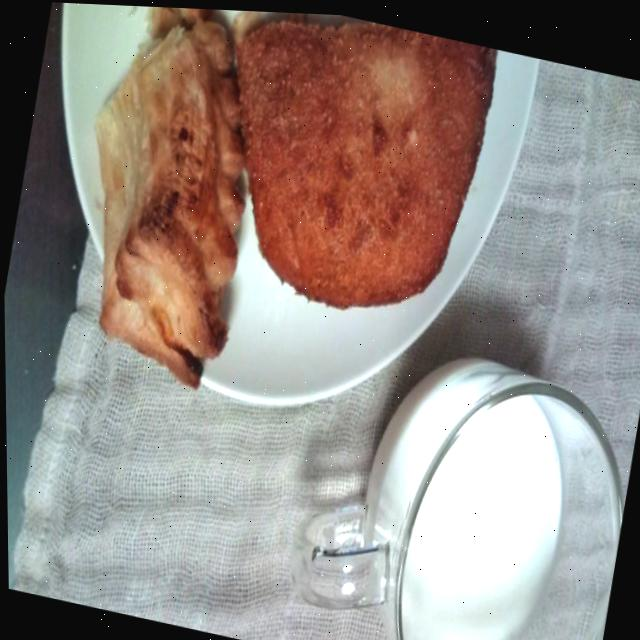三明治: (204, 7, 511, 332)
